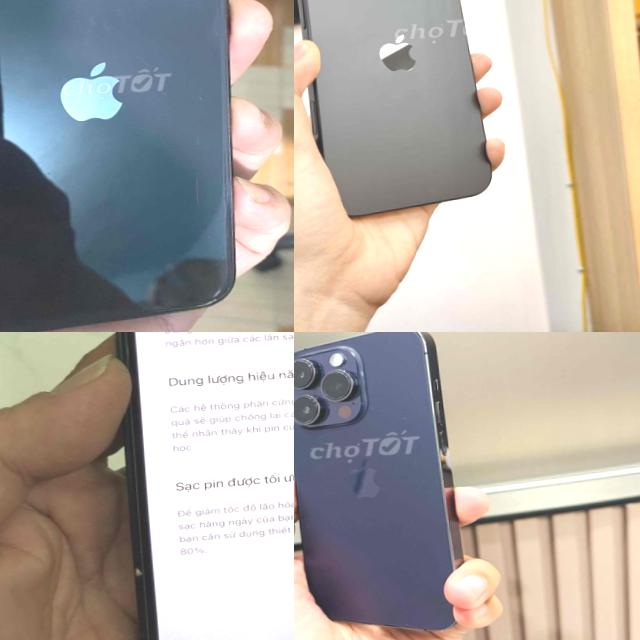gen_12_13: (86, 332, 294, 640)
gen_14: (294, 332, 477, 640)
gen_7_8: (0, 0, 250, 332)
scratch: (298, 0, 491, 215), (186, 129, 210, 207), (182, 298, 220, 310), (188, 86, 206, 105)
